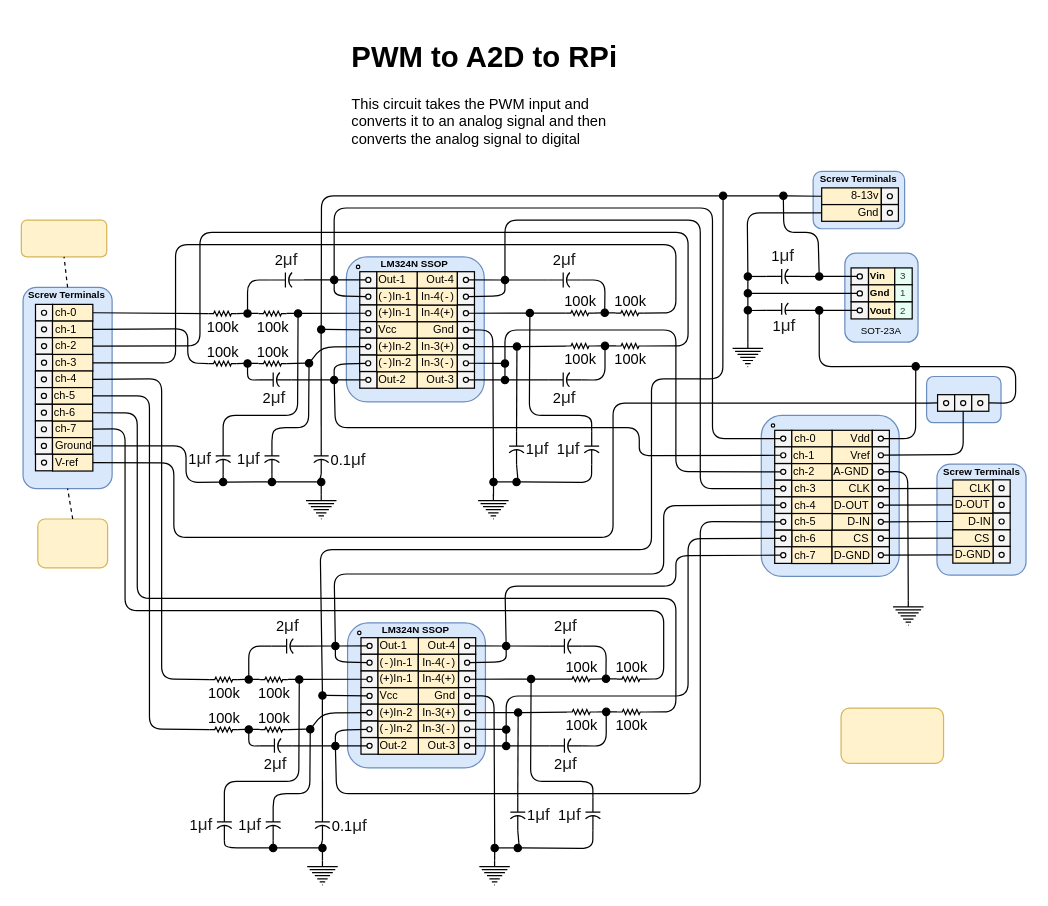
Some shapes in this 1048 by 906 pixel diagram are drawn without their labels. Here are the shapes that lost their labels. From the top down, the box of each, then its label:
(20, 219, 107, 257): PWM Input
(844, 252, 918, 342): MCP1702-5v
(925, 375, 1001, 423): Jumper Pins
(760, 414, 899, 576): MCP3008 SOIC
(37, 518, 108, 568): V-ref 5v max
(840, 707, 944, 763): Note: All capacitors are ceramic
